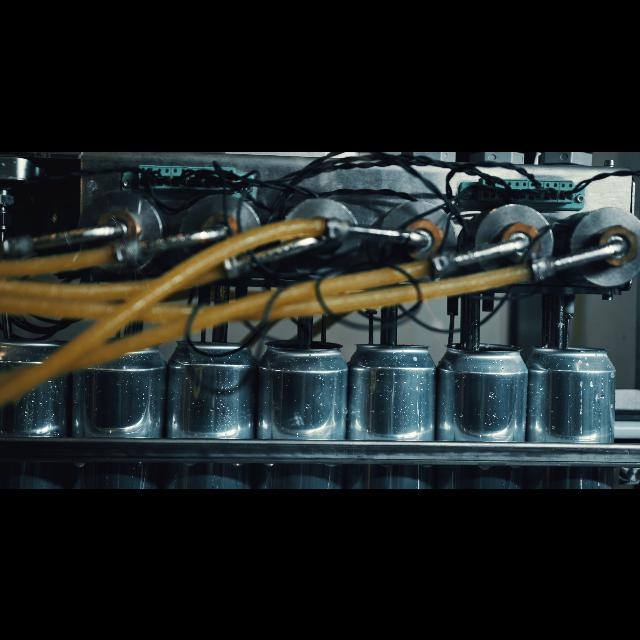empty: (75, 338, 163, 488), (170, 334, 254, 488), (263, 336, 347, 488), (353, 334, 435, 488), (532, 336, 614, 488), (444, 339, 526, 488), (4, 336, 66, 488)
